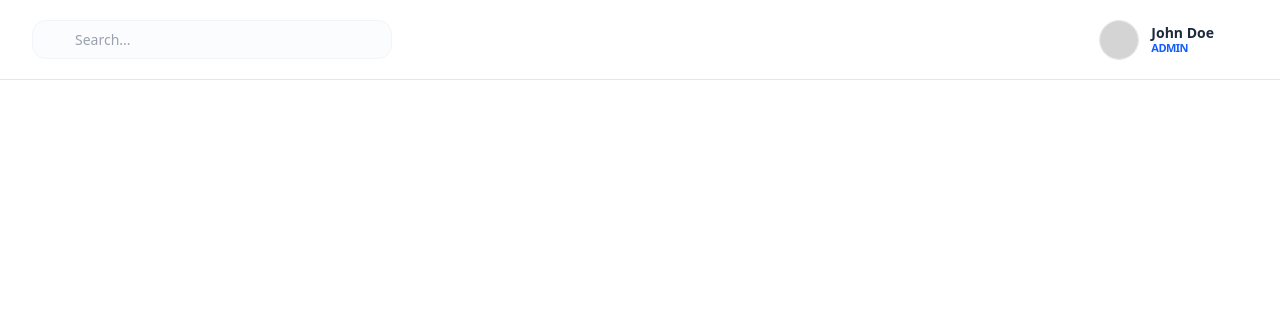
Scenario: Header Layout Component Integration Tests › should show profile dropdown and trigger logout on clicking logout button
Later steps or results of the test are not shown.
Click the button "John Doe ADMIN" at (1172, 40), box [1095,16,1248,64]
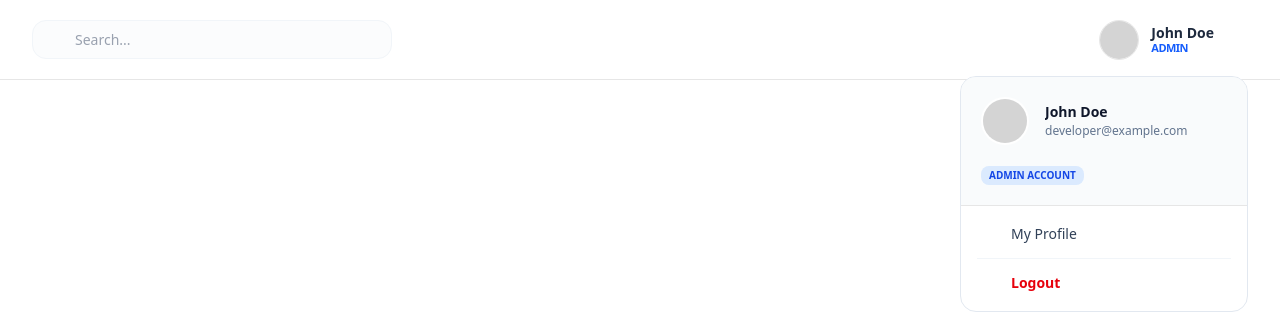
Expected: the button "Logout" is shown, [969,262,1239,302]
